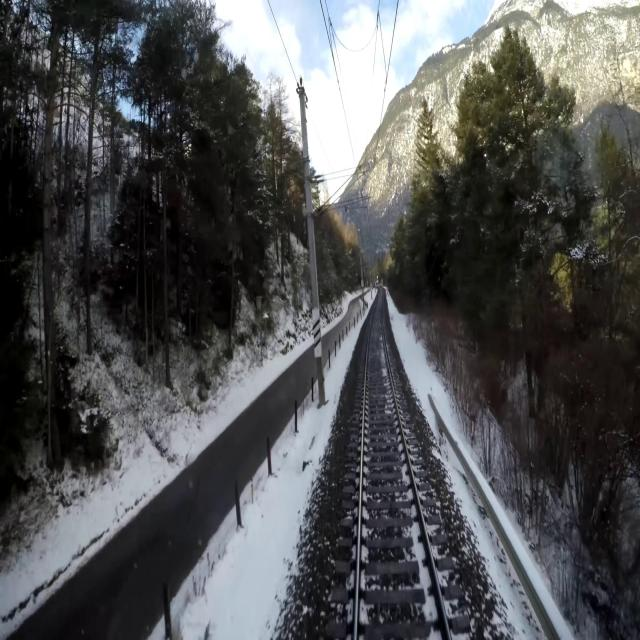rail-track: (357, 289, 446, 639)
